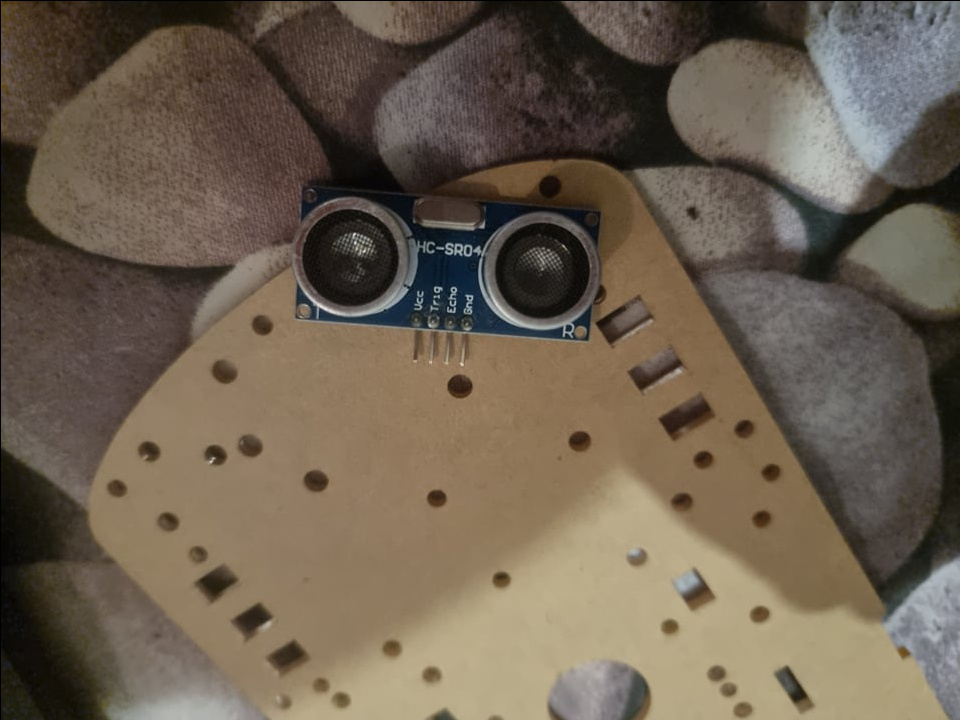SENSOR: (293, 182, 601, 341)
